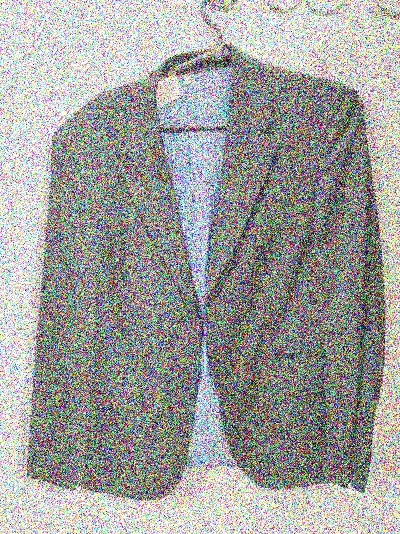Blazer: (20, 46, 400, 504)
